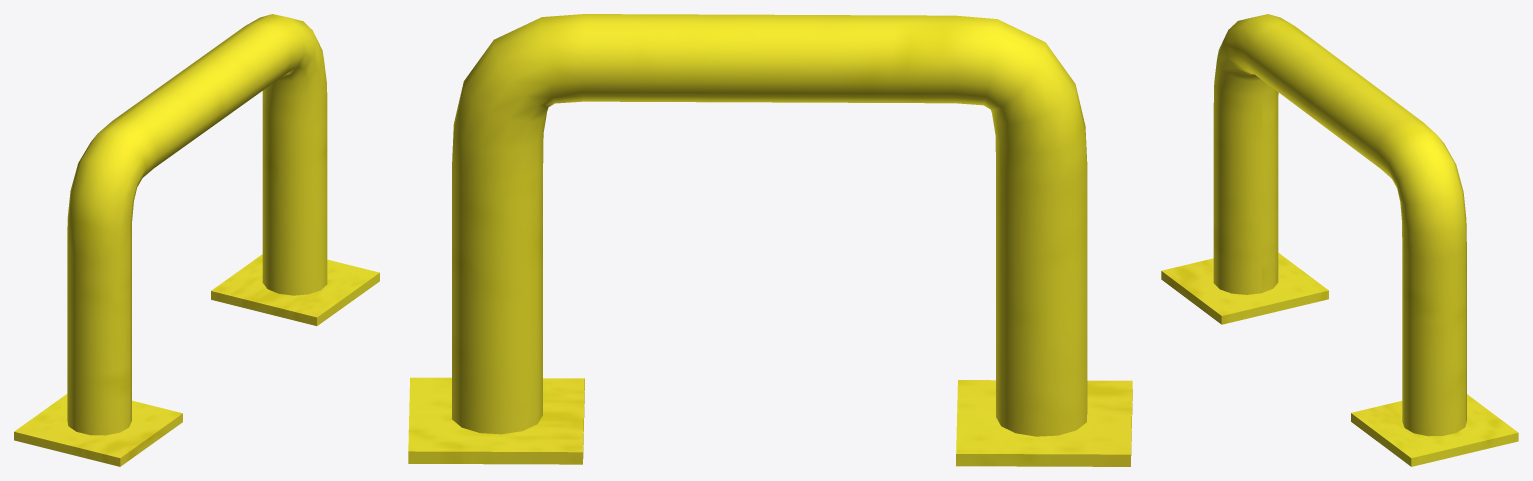
Rendered from U_Barricade.fbx.
The picture shows the model from 3 angles, left to right: view 1: azimuth 30°, elevation 25°; view 2: azimuth 150°, elevation 25°; view 3: azimuth 270°, elevation 25°; orthographic projection. The views are drawn at different scales.
Parts seen in each view (by area): view 1: U_Barricade; view 2: U_Barricade; view 3: U_Barricade.
Part boxes in pixels (bbox=[...]): U_Barricade: bbox=[14, 14, 379, 466]; U_Barricade: bbox=[408, 14, 1132, 466]; U_Barricade: bbox=[1161, 14, 1518, 466].
Bounding box in the file's own units: 126 × 79.72 × 89.57.
Materials: 1 (1 with a texture image).
